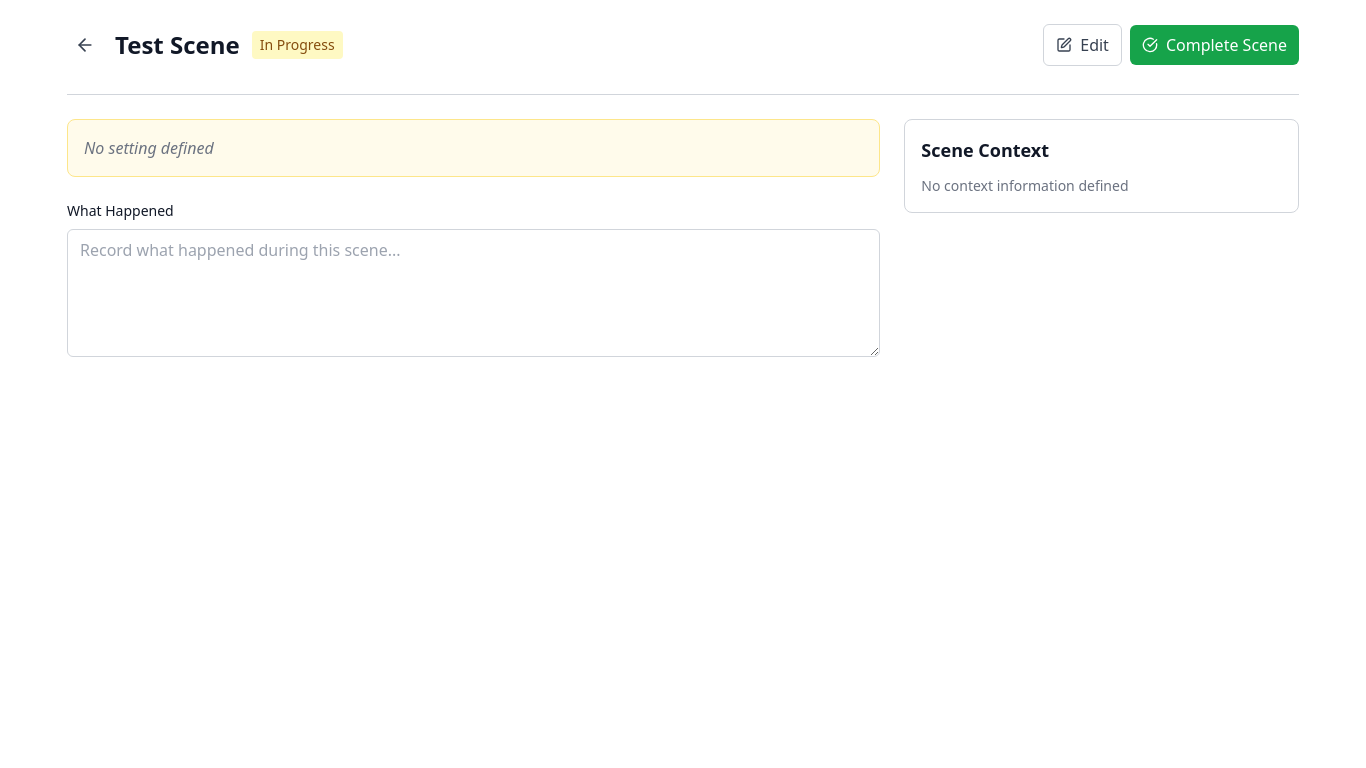
Scene Runner Page - Complete Scene Action › should open completion modal when complete button clicked
Step 1. Click the button "Complete Scene" → (1214, 45), box [1130,25,1299,65]
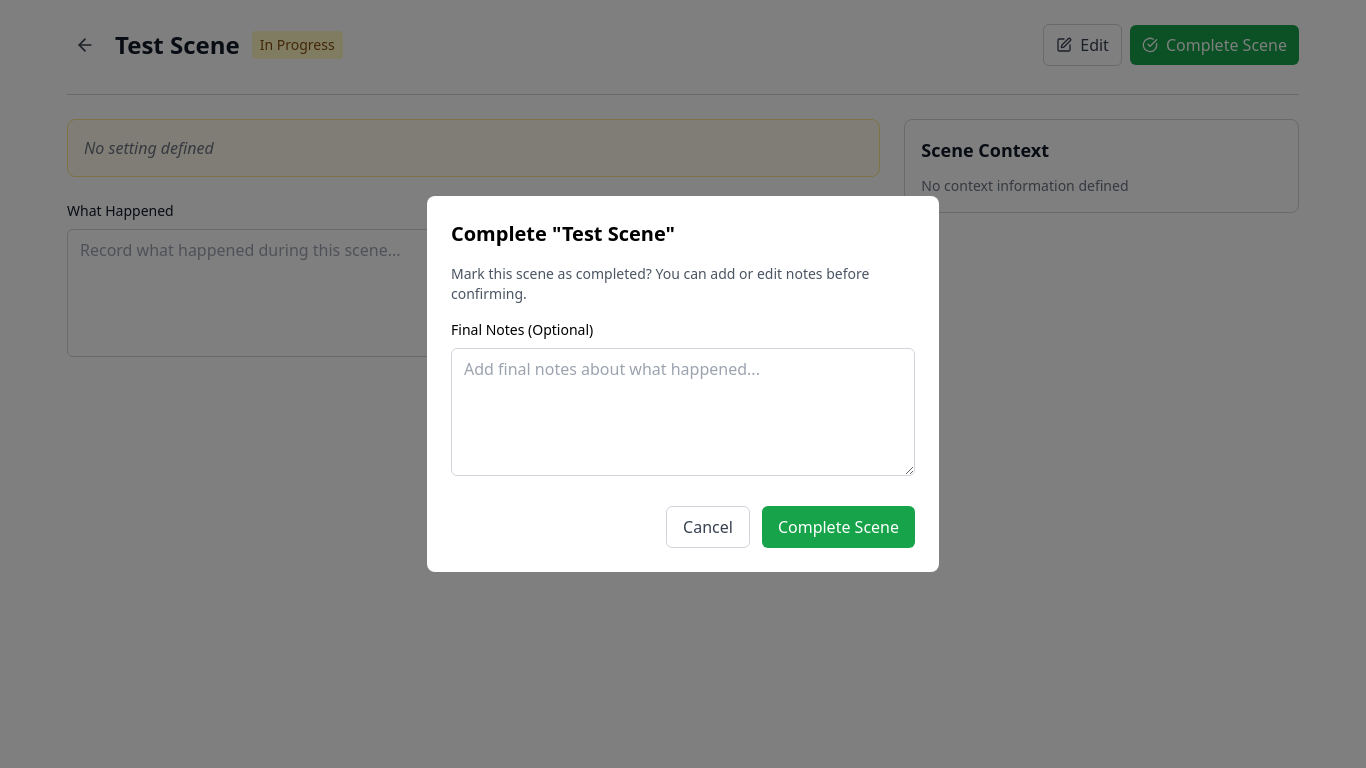
Now the dialog is shown
